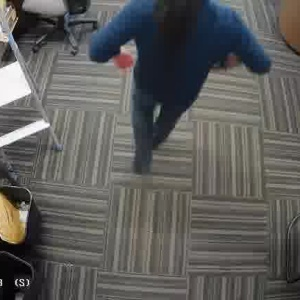person: (107, 0, 247, 156)
